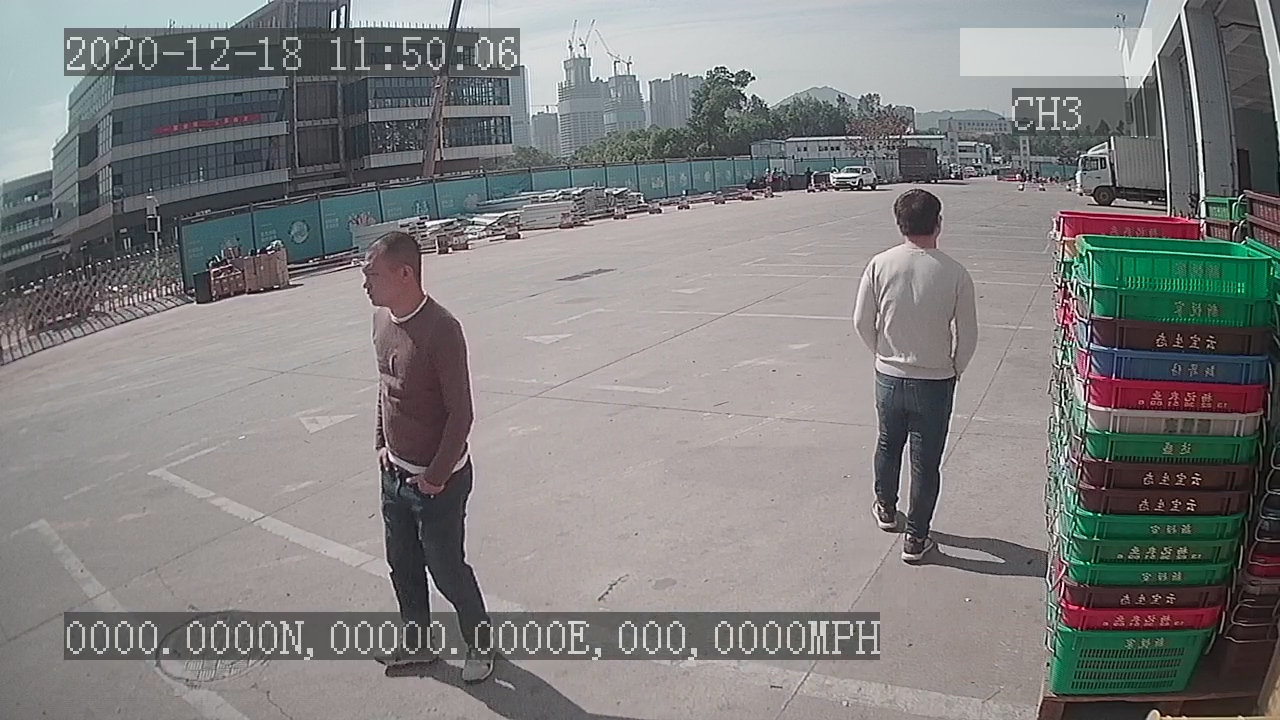person: (849, 185, 981, 570)
